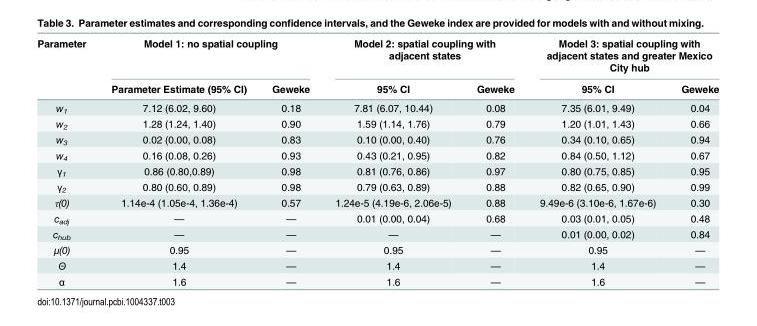table: (36, 36, 718, 286)
table column: (98, 36, 258, 286), (321, 36, 463, 286), (526, 36, 667, 286), (258, 36, 321, 286), (463, 36, 526, 286), (36, 36, 98, 286), (667, 36, 718, 286)
table column header: (36, 36, 718, 97)
table row: (36, 36, 718, 77), (36, 77, 718, 97), (36, 97, 718, 115), (36, 115, 718, 131), (36, 131, 718, 147), (36, 147, 718, 163), (36, 163, 718, 179), (36, 194, 718, 210), (36, 210, 718, 226), (36, 226, 718, 242), (36, 257, 718, 273), (36, 179, 718, 194), (36, 242, 718, 257), (36, 273, 718, 286)
table spanning cell: (98, 36, 321, 77), (321, 36, 526, 77), (526, 36, 718, 77), (36, 36, 98, 97)
